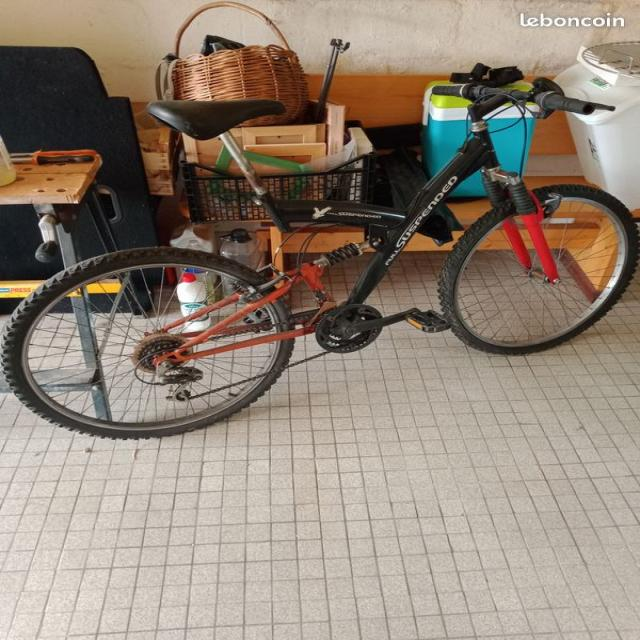Bike: (0, 79, 640, 441)
